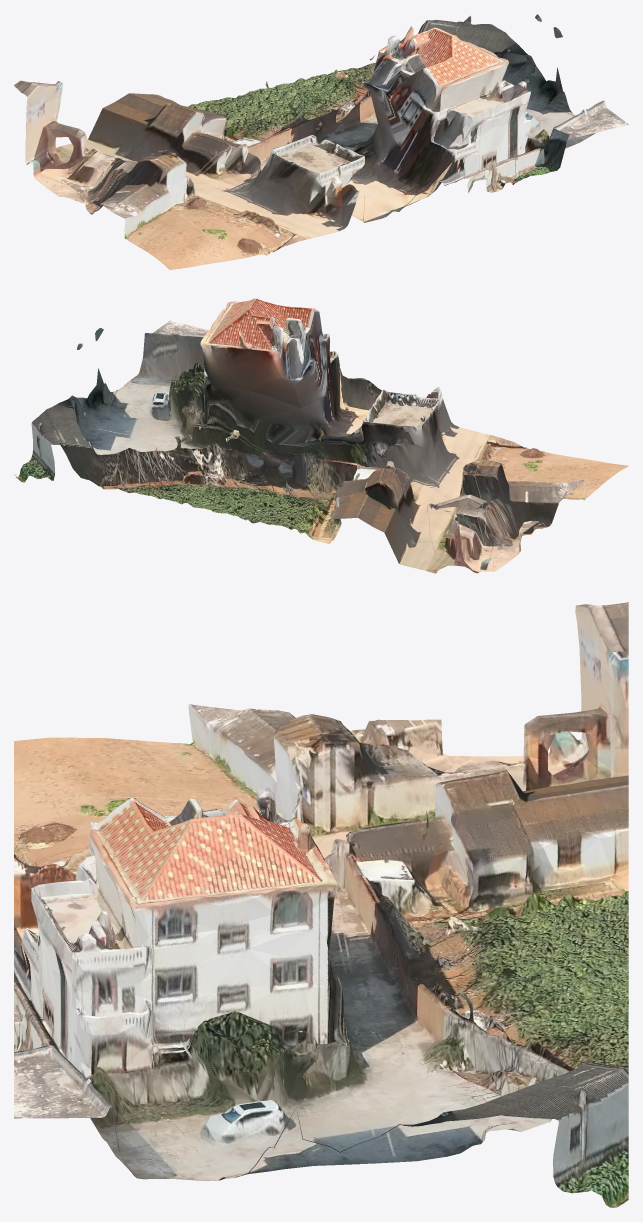
The model's file is BlockBY_L20_389.glb.
3 views of the same model, one above another, from view 1: azimuth 30°, elevation 25°; view 2: azimuth 150°, elevation 25°; view 3: azimuth 270°, elevation 25° (orthographic). The views are drawn at different scales.
Parts seen in each view (by area): view 1: rtc; view 2: rtc; view 3: rtc.
Part boxes in pixels (x1,y1,x2,y2): rtc: (14, 14, 628, 269); rtc: (14, 298, 628, 573); rtc: (14, 602, 628, 1207).
Bounding box in the file's own units: 58.65 × 16.24 × 34.47.
5 materials, 5 textured.
